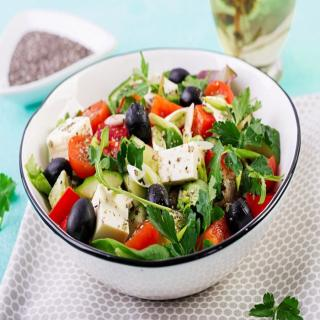salad: (24, 52, 289, 267)
veg: (23, 54, 288, 266)
